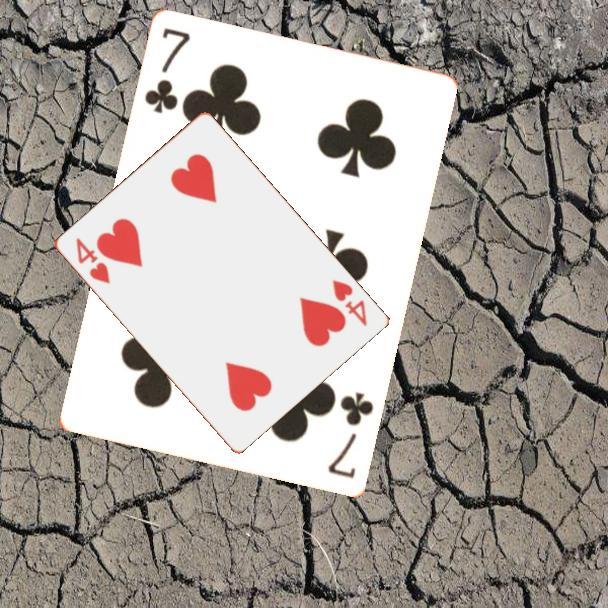c07: (324, 389, 377, 482), (141, 24, 194, 117)
h04: (328, 275, 369, 329), (72, 234, 113, 287)
